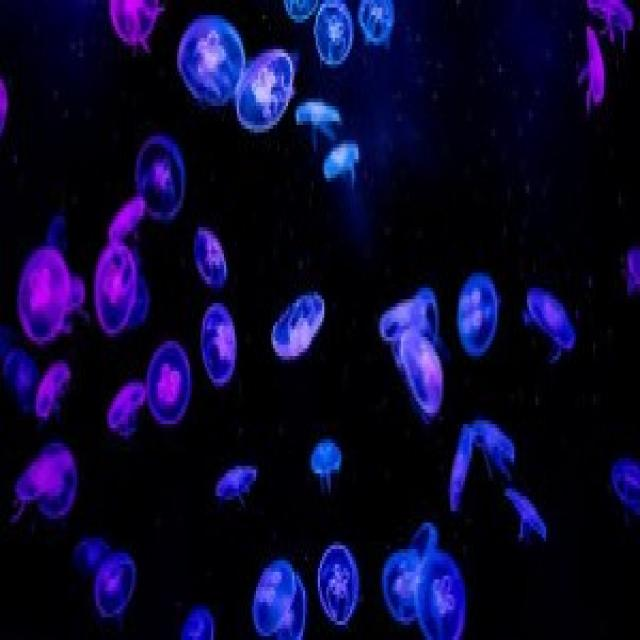Jellyfish: (10, 440, 77, 532), (178, 22, 242, 118), (75, 534, 145, 620), (133, 132, 190, 226), (19, 240, 66, 352), (93, 241, 143, 340), (411, 555, 469, 640), (241, 46, 294, 137), (519, 284, 577, 363), (272, 291, 331, 368), (253, 559, 307, 640), (456, 267, 498, 364), (318, 534, 359, 628), (147, 342, 190, 431), (379, 549, 418, 637), (311, 0, 352, 69), (358, 0, 399, 47)
